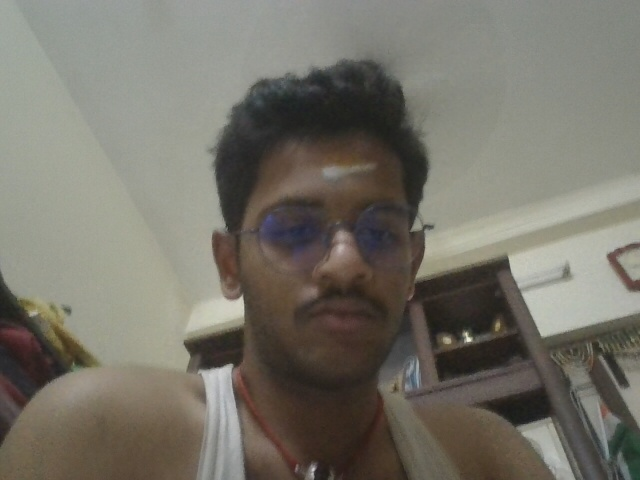real: (221, 138, 453, 370)
